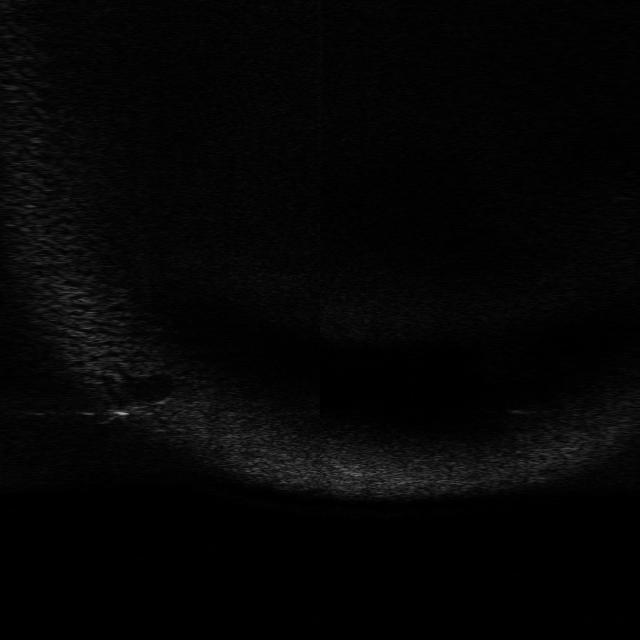plane: (94, 395, 174, 428)
